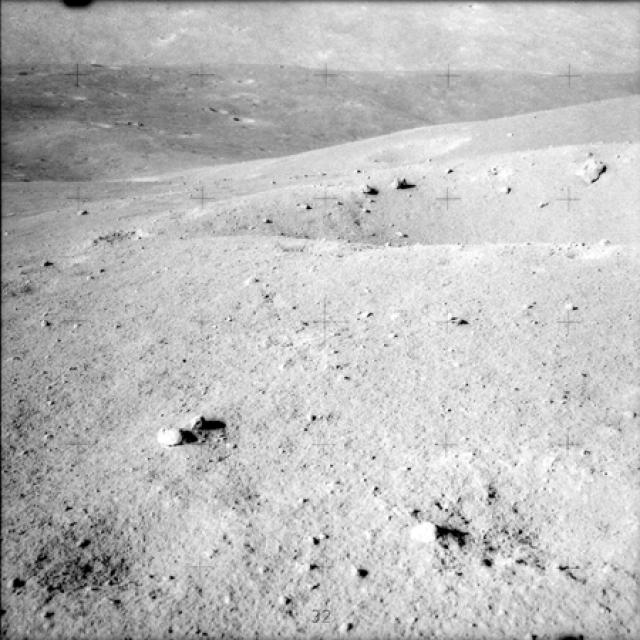crater: (133, 140, 640, 268), (356, 134, 471, 162)
rock: (147, 410, 227, 449), (403, 514, 438, 544)
